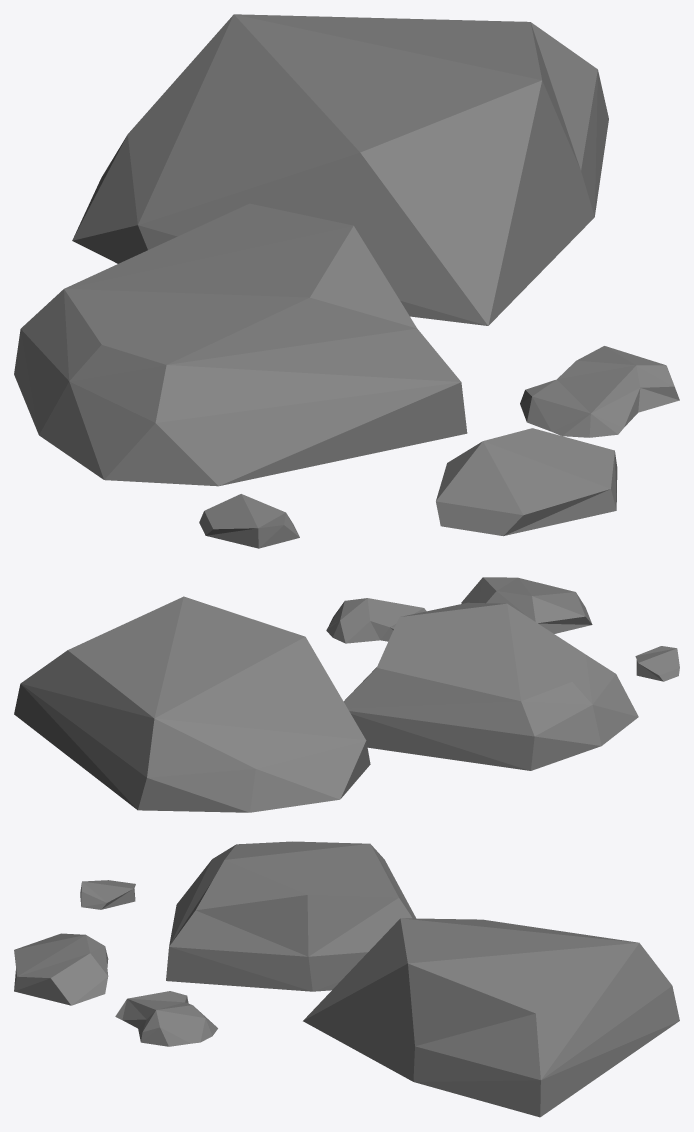
Rendered from _stones_1.glb.
3 views of the same model, one above another, from view 1: azimuth 30°, elevation 25°; view 2: azimuth 150°, elevation 25°; view 3: azimuth 270°, elevation 25° (orthographic). The views are drawn at different scales.
Parts seen in each view (by area): view 1: stones_1; view 2: stones_1; view 3: stones_1.
Boxes of the visible parts, x1,y1,x2,y2 form: stones_1: [14, 14, 679, 548]; stones_1: [14, 577, 679, 812]; stones_1: [14, 841, 679, 1117].
Bounding box in the file's own units: 1.67 × 0.3268 × 1.96.
1 material, 1 textured.
